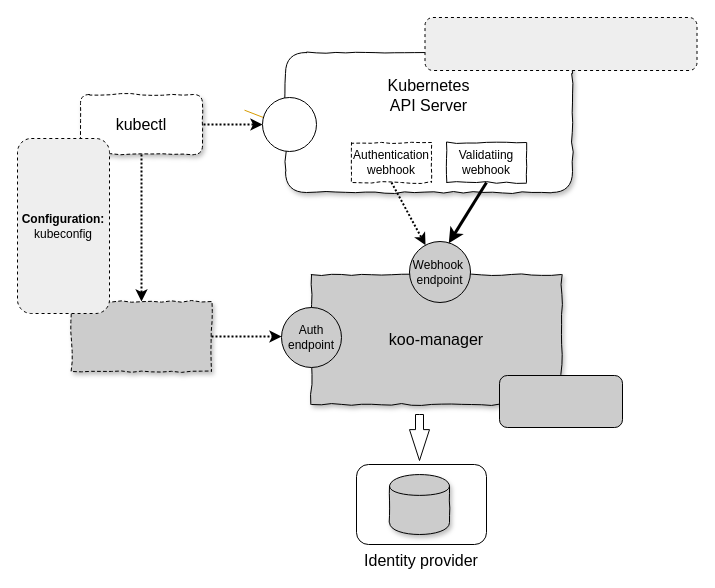
Some shapes in this 715 by 588 pixel diagram are drawn without their labels. The centre of each missing label's shape, as x and y in pixels:
"API endpoint" goes at point (289, 124).
"Configuration: /etc/kubernetes/manifests/kube-apiserver.yaml" goes at point (560, 43).
"Configuration: configMap: koo-system:mgrconfig" goes at point (560, 401).
"CRD" goes at point (420, 506).
"kubectl-koo" goes at point (142, 337).
